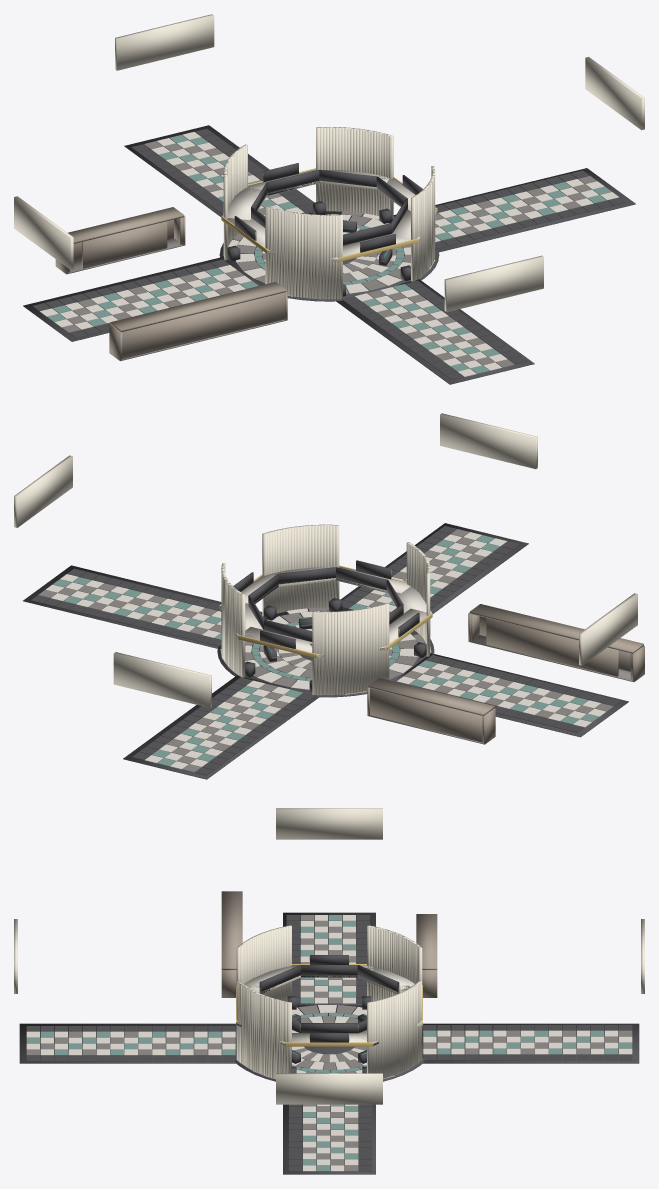
Rendered from pavimentazione.glb.
The picture shows the model from 3 angles, top to bottom: view 1: azimuth 30°, elevation 25°; view 2: azimuth 150°, elevation 25°; view 3: azimuth 270°, elevation 25°; orthographic projection. The views are drawn at different scales.
Parts seen in each view (by area): view 1: pavimento, rc_31_ext, lunette_0, lunette_180, rc_30_int1, rc_31_soff, lunette_90, lunette_270, base_braccio_180, base_braccio_90, rc_30_soff, base_braccio_270 (+6 smaller); view 2: pavimento, lunette_0, lunette_180, rc_31_int1, rc_30_ext, lunette_90, lunette_270, rc_31_soff, base_braccio_0, rc_30_soff, base_braccio_90, base_braccio_270 (+6 smaller); view 3: pavimento, lunette_90, lunette_270, base_braccio_0, base_braccio_180, rc_31_soff, base_braccio_90, rc_30_soff, base_rotonda, base_braccio_270, COL_an_p3, COL_an_p1.
Boxes of the visible parts, x1=… form: pavimento: x1=32, y1=128, x2=626, y2=379; rc_31_ext: x1=122, y1=292, x2=284, y2=358; lunette_0: x1=115, y1=14, x2=214, y2=70; lunette_180: x1=444, y1=255, x2=543, y2=311; rc_30_int1: x1=82, y1=221, x2=167, y2=268; rc_31_soff: x1=110, y1=282, x2=286, y2=332; lunette_90: x1=585, y1=57, x2=644, y2=130; lunette_270: x1=14, y1=196, x2=73, y2=269; base_braccio_180: x1=336, y1=279, x2=534, y2=384; base_braccio_90: x1=393, y1=168, x2=635, y2=252; rc_30_soff: x1=68, y1=207, x2=184, y2=243; base_braccio_270: x1=23, y1=257, x2=260, y2=341; pavimento: x1=31, y1=526, x2=620, y2=775; lunette_0: x1=113, y1=652, x2=211, y2=707; lunette_180: x1=440, y1=413, x2=537, y2=469; rc_31_int1: x1=486, y1=618, x2=618, y2=676; rc_30_ext: x1=370, y1=688, x2=482, y2=742; lunette_90: x1=14, y1=455, x2=72, y2=527; lunette_270: x1=579, y1=593, x2=637, y2=665; rc_31_soff: x1=469, y1=604, x2=643, y2=653; base_braccio_0: x1=123, y1=675, x2=319, y2=779; rc_30_soff: x1=368, y1=678, x2=494, y2=715; base_braccio_90: x1=23, y1=565, x2=262, y2=648; base_braccio_270: x1=397, y1=653, x2=628, y2=737; pavimento: x1=26, y1=915, x2=632, y2=1171; lunette_90: x1=276, y1=1073, x2=382, y2=1104; lunette_270: x1=276, y1=808, x2=382, y2=839; base_braccio_0: x1=422, y1=1023, x2=639, y2=1063; base_braccio_180: x1=19, y1=1023, x2=236, y2=1063; rc_31_soff: x1=221, y1=891, x2=242, y2=969; base_braccio_90: x1=283, y1=1104, x2=375, y2=1174; rc_30_soff: x1=416, y1=914, x2=437, y2=969; base_rotonda: x1=234, y1=1003, x2=424, y2=1081; base_braccio_270: x1=283, y1=912, x2=375, y2=1005; COL_an_p3: x1=301, y1=965, x2=357, y2=975; COL_an_p1: x1=301, y1=1023, x2=357, y2=1033.
Bounding box in the file's own units: 65 × 11.64 × 65.
